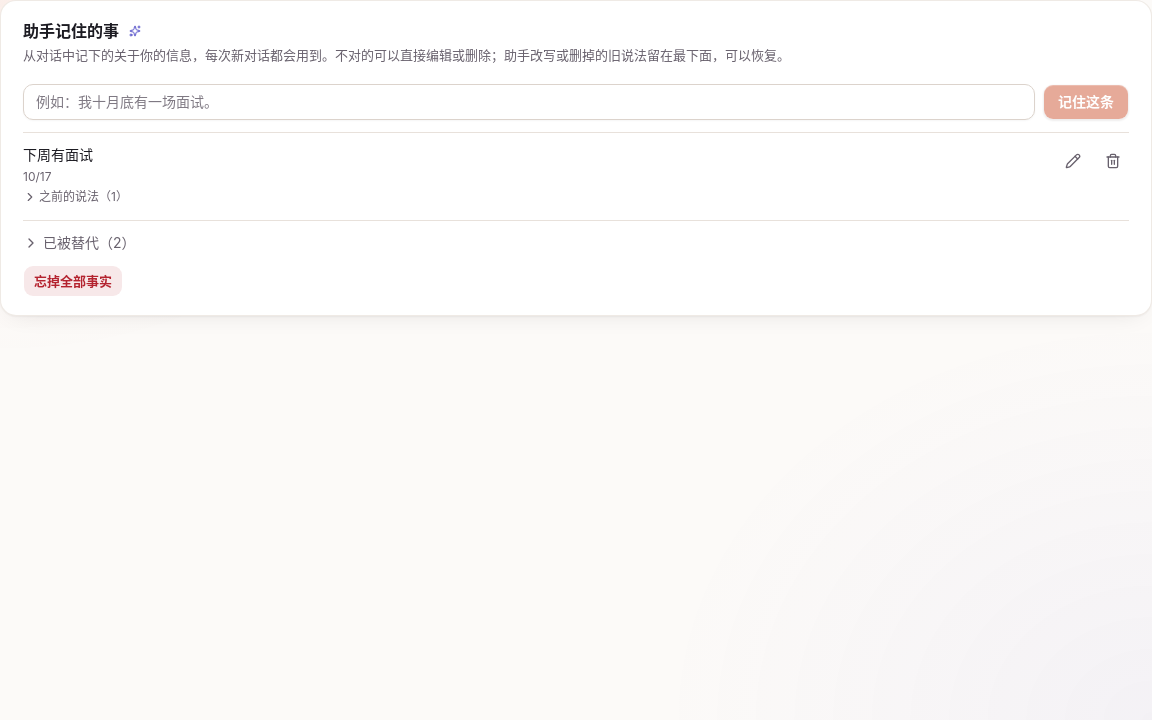
Scenario: MemoryListSection facts › folds what a fact replaced under it and the superseded ones at the bottom
Expected: the number of list items is 1, 23,133 -> 1129,220
Expected: the text "下个月有面试" is not shown
Click the button "之前的说法（1）". click: x=75, y=197
box: 23,189 -> 128,205
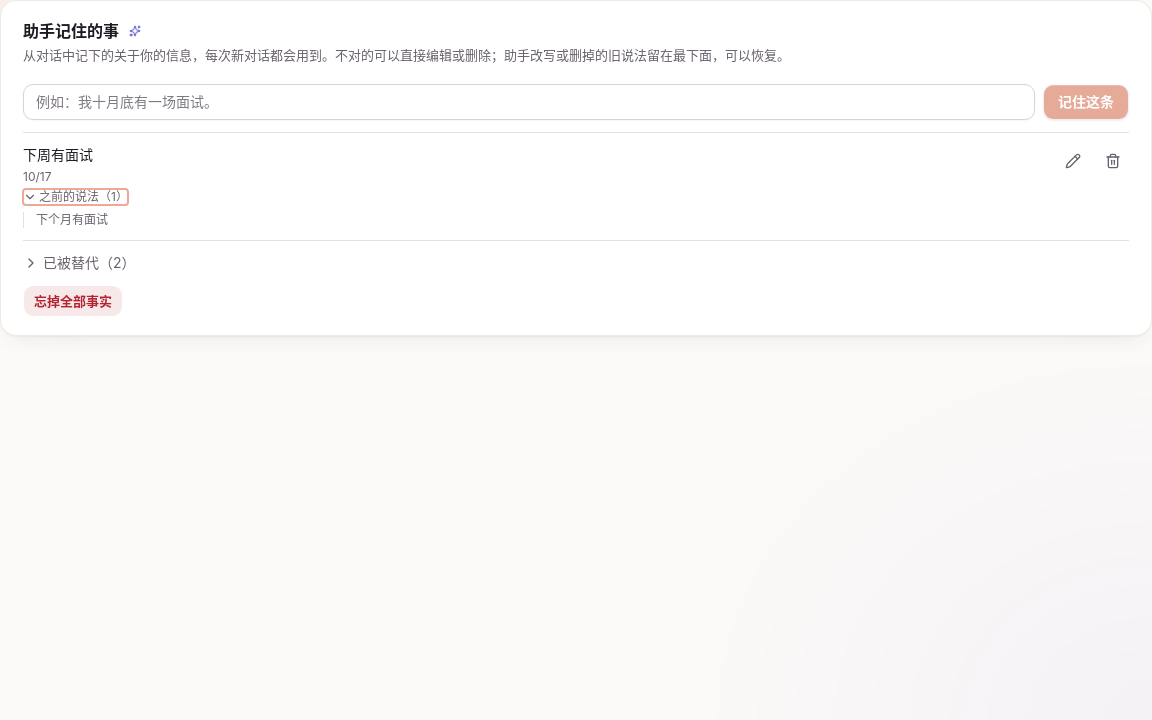
Expected: the list item "下个月有面试" is shown, 36,212 -> 108,227
Click the button "已被替代（2）". click: x=79, y=263
box: 23,253 -> 136,273
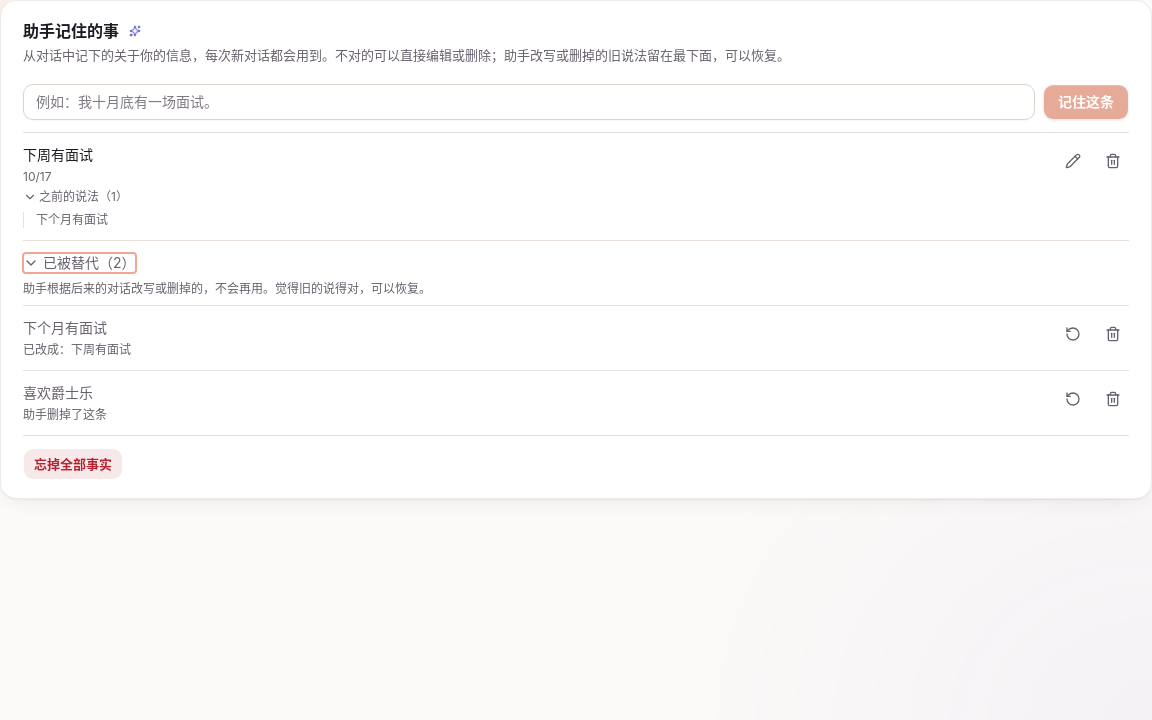
Expected: the text "已改成：下周有面试" is shown, 23,342 -> 131,357
Expected: the text "助手删掉了这条" is shown, 23,407 -> 107,422
